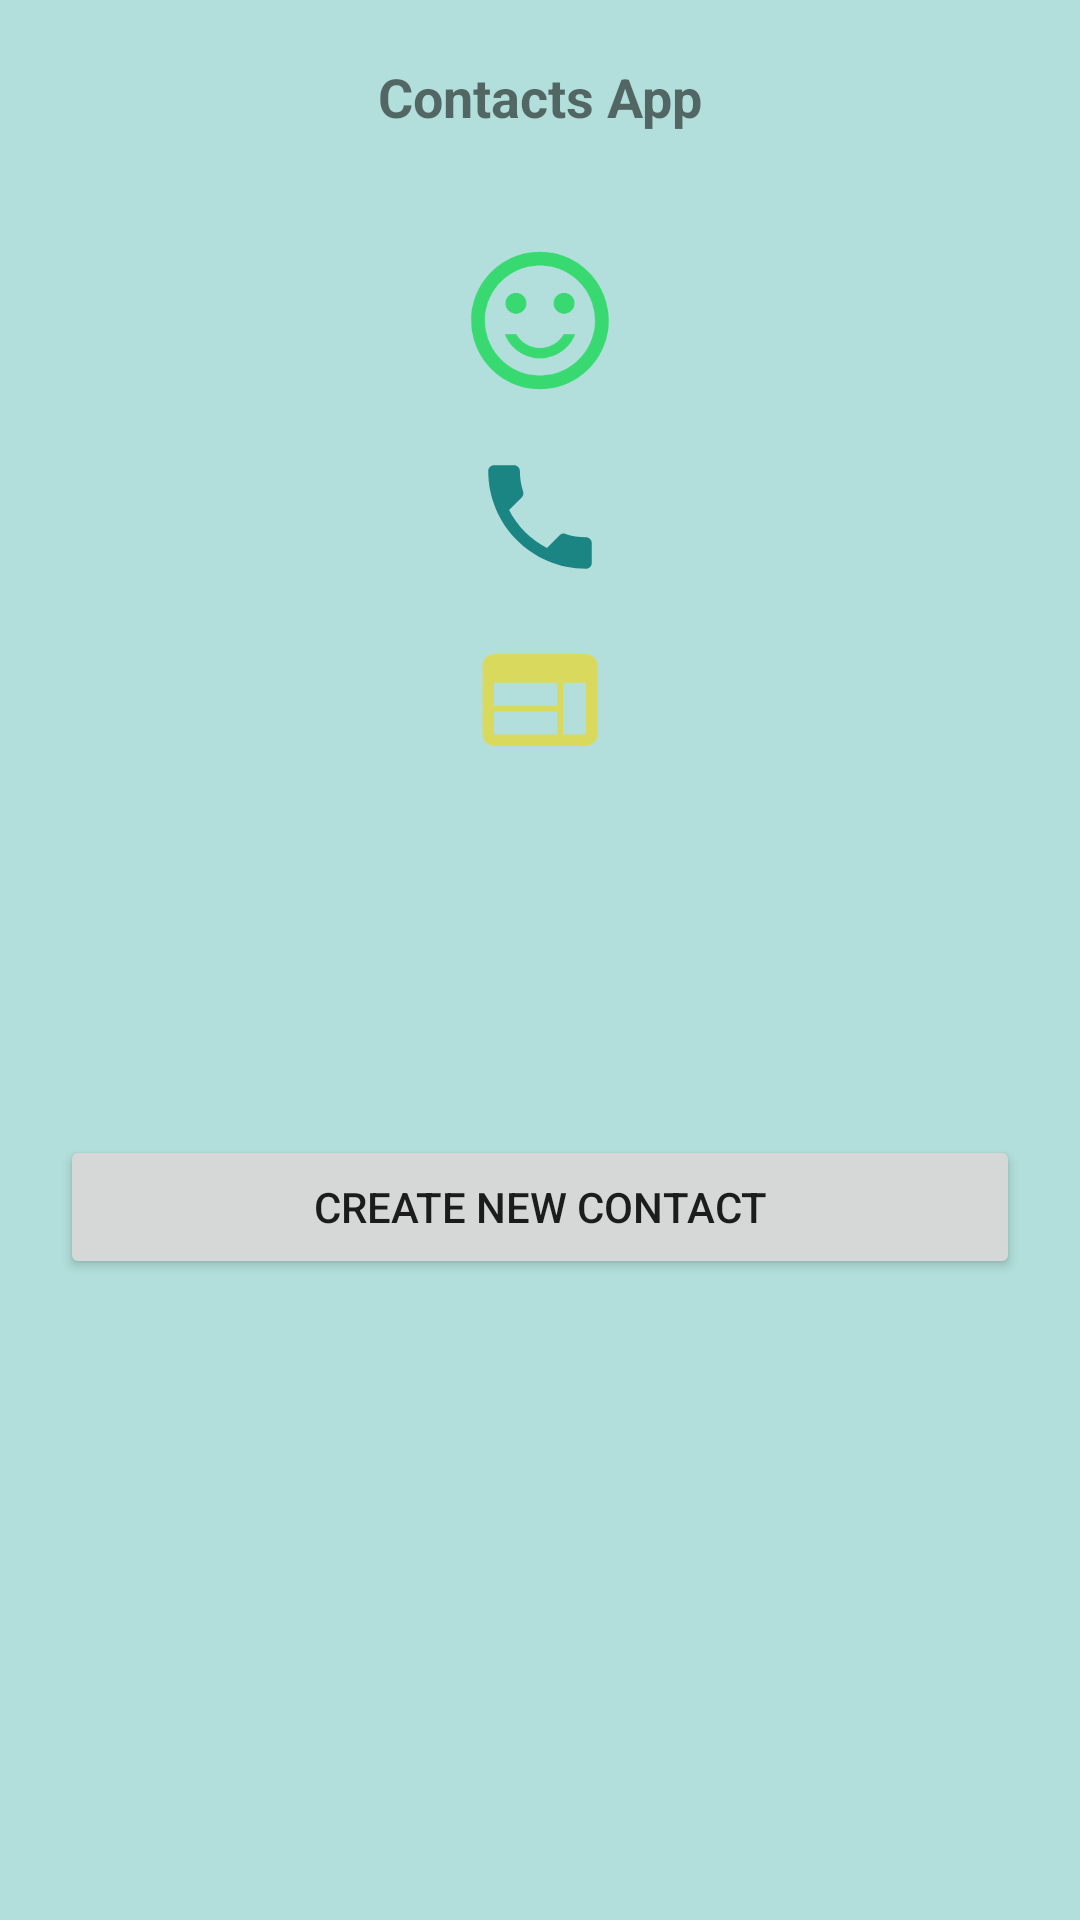

Where to tap for icons on this 1080 x 1920 app screen, as [x,y]:
phone: [540,517]
sentiment satisfied: [540,320]
web: [540,700]
